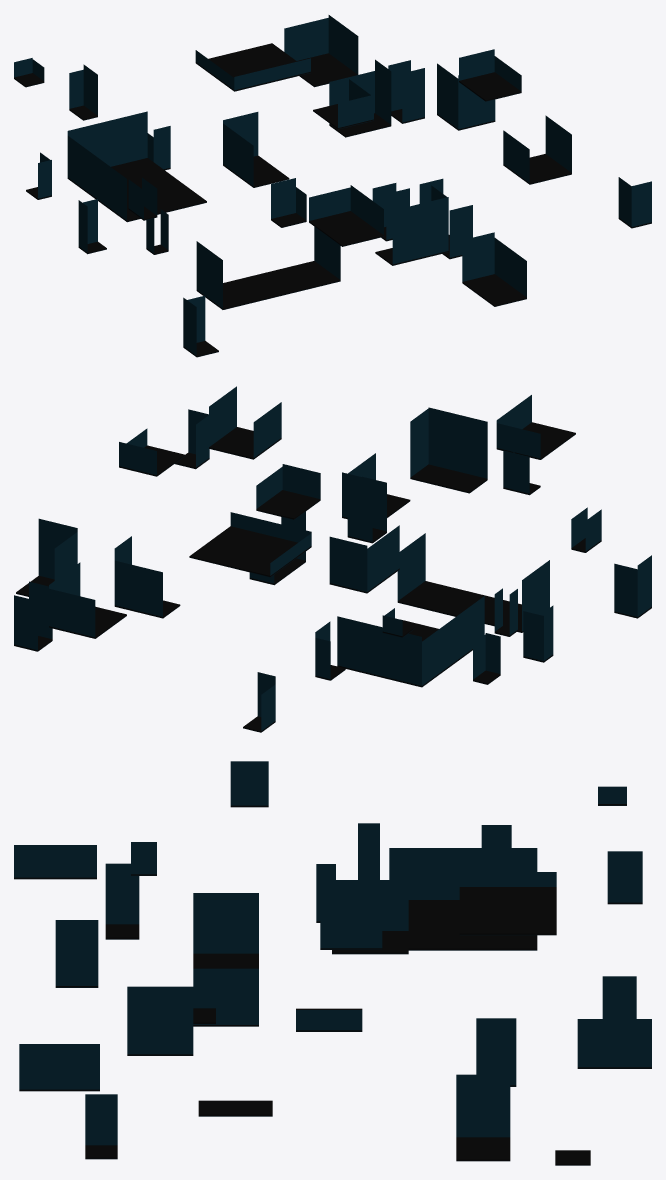
Rendered from far_ceiling.glb.
The picture shows the model from 3 angles, top to bottom: view 1: azimuth 30°, elevation 25°; view 2: azimuth 150°, elevation 25°; view 3: azimuth 270°, elevation 25°; orthographic projection. The views are drawn at different scales.
Parts seen in each view (by area): view 1: far_ceiling_skirt, tiles; view 2: far_ceiling_skirt, tiles; view 3: far_ceiling_skirt, tiles.
Boxes of the visible parts, left/top/right/bottom form: far_ceiling_skirt: left=14, top=15, right=651, bottom=355; tiles: left=14, top=43, right=651, bottom=357; far_ceiling_skirt: left=14, top=386, right=651, bottom=730; tiles: left=14, top=422, right=651, bottom=732; far_ceiling_skirt: left=14, top=761, right=651, bottom=1145; tiles: left=14, top=804, right=651, bottom=1165.
Bounding box in the file's own units: 10.22 × 2.98 × 9.98.
